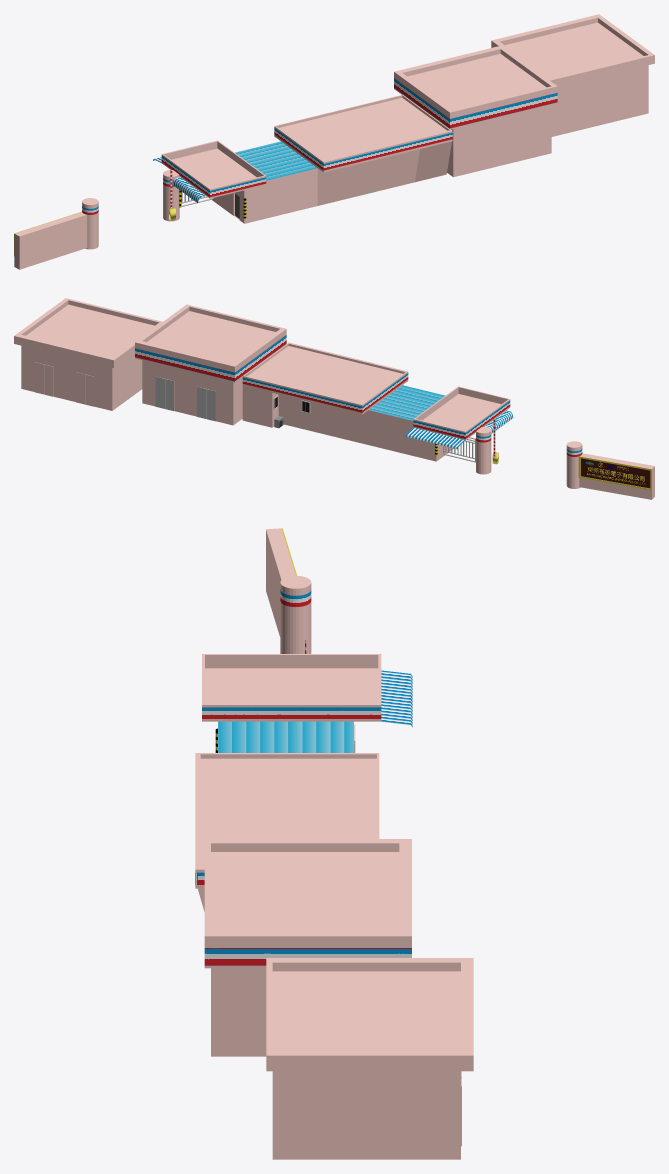
Rendered from guard_room.fbx.
3 renders of one model, top to bottom at view 1: azimuth 30°, elevation 25°; view 2: azimuth 150°, elevation 25°; view 3: azimuth 270°, elevation 25°, orthographic. The views are drawn at different scales.
Parts seen in each view (by area): view 1: 保安室1; view 2: 保安室1; view 3: 保安室1.
Boxes of the visible parts, x1,y1,x2,y2 form: 保安室1: [14, 14, 654, 269]; 保安室1: [14, 298, 654, 499]; 保安室1: [195, 528, 473, 1159].
Size of the model in its own units: 4193 by 438 by 856.
Materials: 16 (7 with a texture image).
